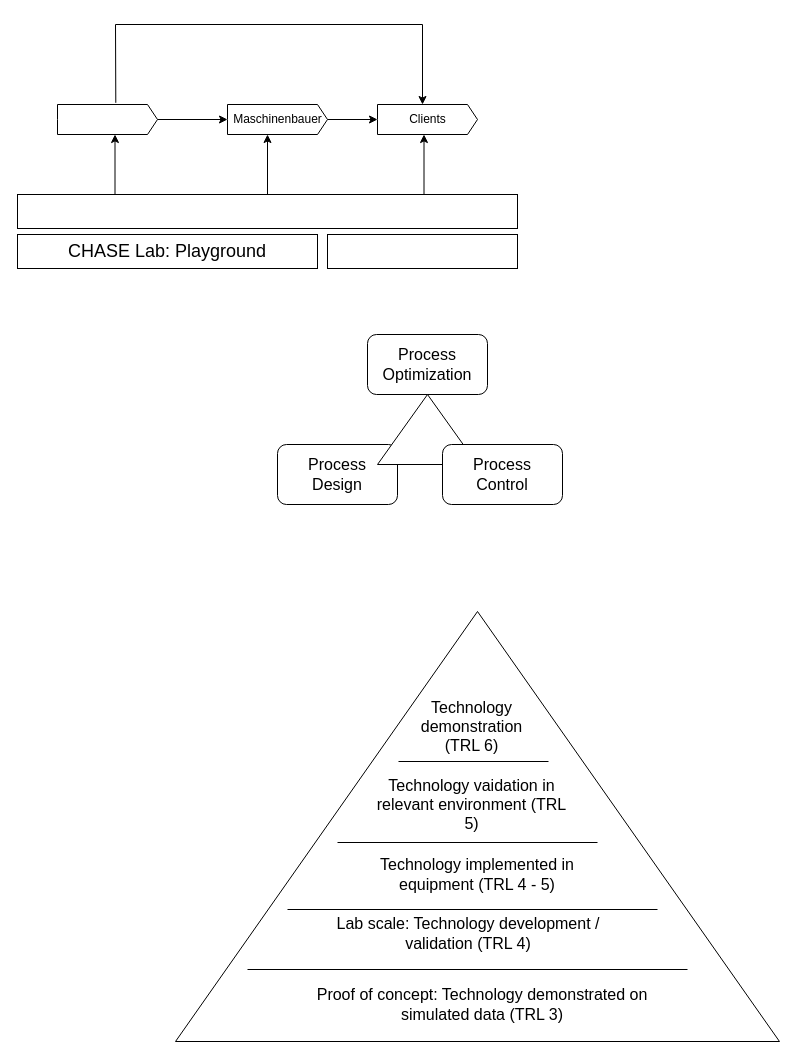
Image size: 797x1059. Some labels were removed from this diagram. The box of each missing label's shape, as (x1, y1, x2, y2) in pixels:
CHASE Consulting: (326, 234, 518, 268)
CHASE: development of smart controllers: (16, 194, 518, 228)
Tech Provider: (56, 104, 158, 134)
